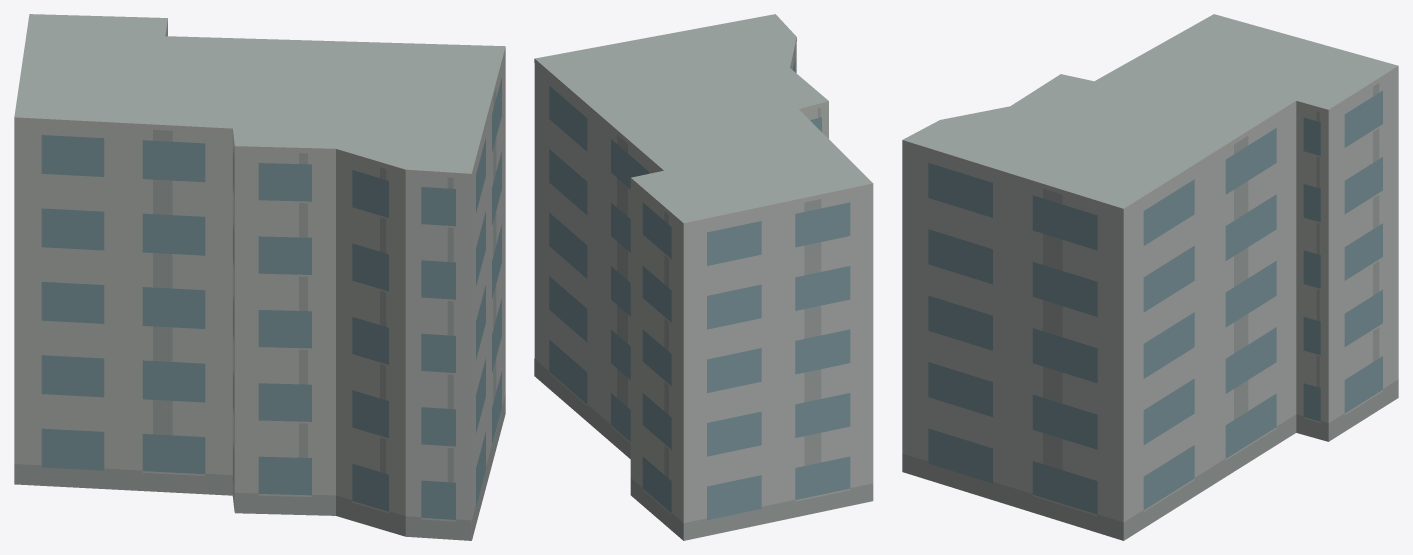
File: survey-upis-32823732.glb
3 views of the same model, side by side, from view 1: azimuth 30°, elevation 25°; view 2: azimuth 150°, elevation 25°; view 3: azimuth 270°, elevation 25° (orthographic). The views are drawn at different scales.
Parts seen in each view (by area): view 1: survey-upis-32823732.tmp; view 2: survey-upis-32823732.tmp; view 3: survey-upis-32823732.tmp.
Part boxes in pixels (left/top/right/bottom): survey-upis-32823732.tmp: left=14, top=14, right=505, bottom=540; survey-upis-32823732.tmp: left=534, top=14, right=873, bottom=540; survey-upis-32823732.tmp: left=902, top=14, right=1398, bottom=540.
Bounding box in the file's own units: 21.4 × 17 × 23.04.
